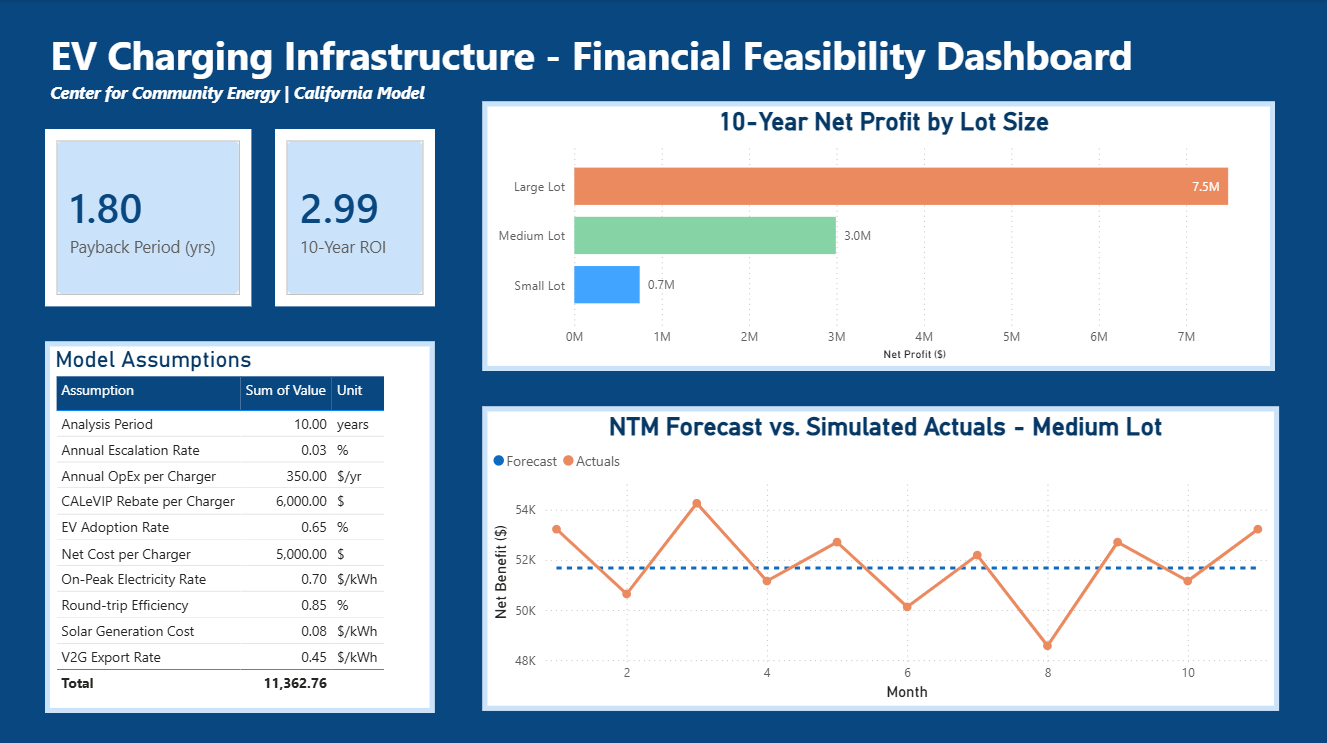

What the dashboard file says about the page in this screenshot:
{"tool":"powerbi","page":{"name":"Page 1","canvas":[1280,720],"ordinal":0},"visuals":[{"type":"textbox","box":[0,0,24.3,24.3],"z":0},{"type":"textbox","box":[43.8,23.8,1148.8,150],"z":1000},{"type":"clusteredBarChart","title":"10-Year Net Profit by Lot Size","fields":{"Y":["Sum(PBI Scenario Summary.10-Yr Profit ($))"],"Category":["PBI Scenario Summary.Scenario"]},"box":[466.2,98.8,765,260],"z":2000},{"type":"cardVisual","fields":{"Data":["Avg(PBI Scenario Summary.Payback (yrs))"]},"box":[44,126,199,171],"z":3000},{"type":"cardVisual","fields":{"Data":["Avg(PBI Scenario Summary.ROI (%))"]},"box":[266,126,154,171],"z":4000},{"type":"lineChart","title":"NTM Forecast vs. Simulated Actuals - Medium Lot","fields":{"Category":["PBI NTM Forecast.Month"],"Y":["Sum(PBI NTM Forecast.Forecasted Net Benefit ($))","Sum(PBI NTM Forecast.Simulated Actual ($))"]},"box":[466.2,393.8,768.8,293.8],"z":5000},{"type":"tableEx","title":"Model Assumptions","fields":{"Values":["PBI Assumptions.Assumption","Sum(PBI Assumptions.Value)","PBI Assumptions.Unit"]},"box":[44,330,376,358],"z":6000}]}

Visuals, with their boxes in screenshot pixels (x1, y1, x2, y2), scaled from the page's 1280x720 canvas onto the 1327x743 screenshot:
textbox: 0,0,25,25
textbox: 45,25,1236,179
"10-Year Net Profit by Lot Size" clusteredBarChart: 483,102,1276,370
cardVisual - Avg(PBI Scenario Summary.Payback (yrs)): 46,130,252,306
cardVisual - Avg(PBI Scenario Summary.ROI (%)): 276,130,435,306
"NTM Forecast vs. Simulated Actuals - Medium Lot" lineChart: 483,406,1280,710
"Model Assumptions" tableEx: 46,341,435,710
